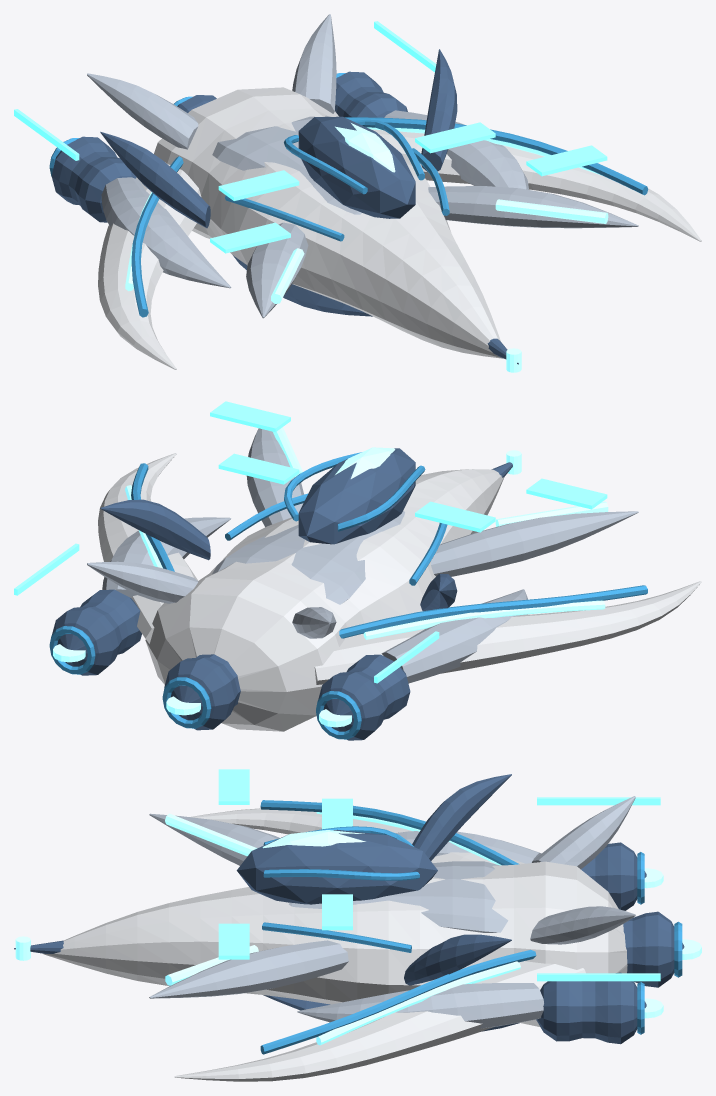
File: SL_PIONEER_HQ.glb
3 renders of one model, top to bottom at view 1: azimuth 30°, elevation 25°; view 2: azimuth 150°, elevation 25°; view 3: azimuth 270°, elevation 25°, orthographic.
Visible parts, largest first — view 1: armor, plate, dark, accent, V59 trim baked, energy; view 2: armor, plate, dark, accent, V59 trim baked, energy; view 3: armor, dark, plate, accent, V59 trim baked, energy.
Part boxes in pixels (x1,y1,x2,y2): armor: (98,87,701,369); plate: (87,14,638,318); dark: (51,49,518,364); accent: (49,73,648,317); V59 trim baked: (14,21,607,253); energy: (125,123,608,372); armor: (98,453,701,731); plate: (87,428,638,683); dark: (52,448,512,740); accent: (49,452,647,739); V59 trim baked: (14,401,607,683); energy: (53,427,608,727); armor: (43,808,627,1081); dark: (14,774,684,1044); plate: (149,796,635,1028); accent: (260,800,682,1054); V59 trim baked: (218,769,660,981); energy: (15,812,701,1045).
Bounding box in the file's own units: 5.38 × 1.8 × 5.87.
